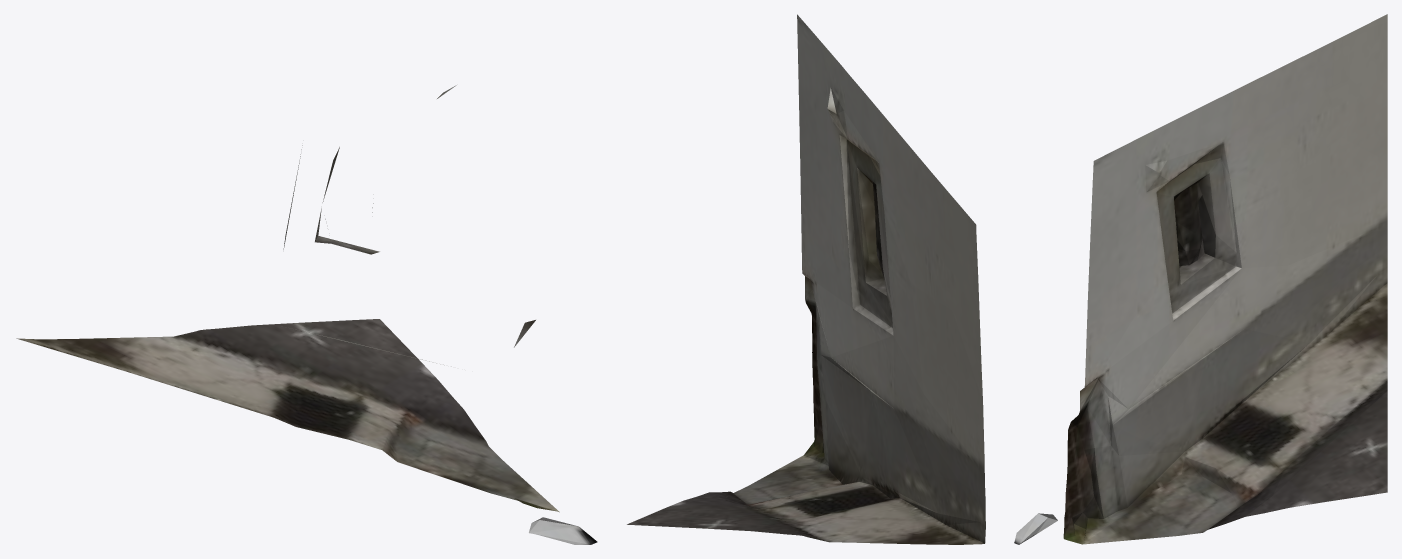
3 renders of one model, left to right at view 1: azimuth 30°, elevation 25°; view 2: azimuth 150°, elevation 25°; view 3: azimuth 270°, elevation 25°, orthographic. The views are drawn at different scales.
Bounding box in the file's own units: 2.96 × 3.54 × 3.1.
1 material, 1 textured.
